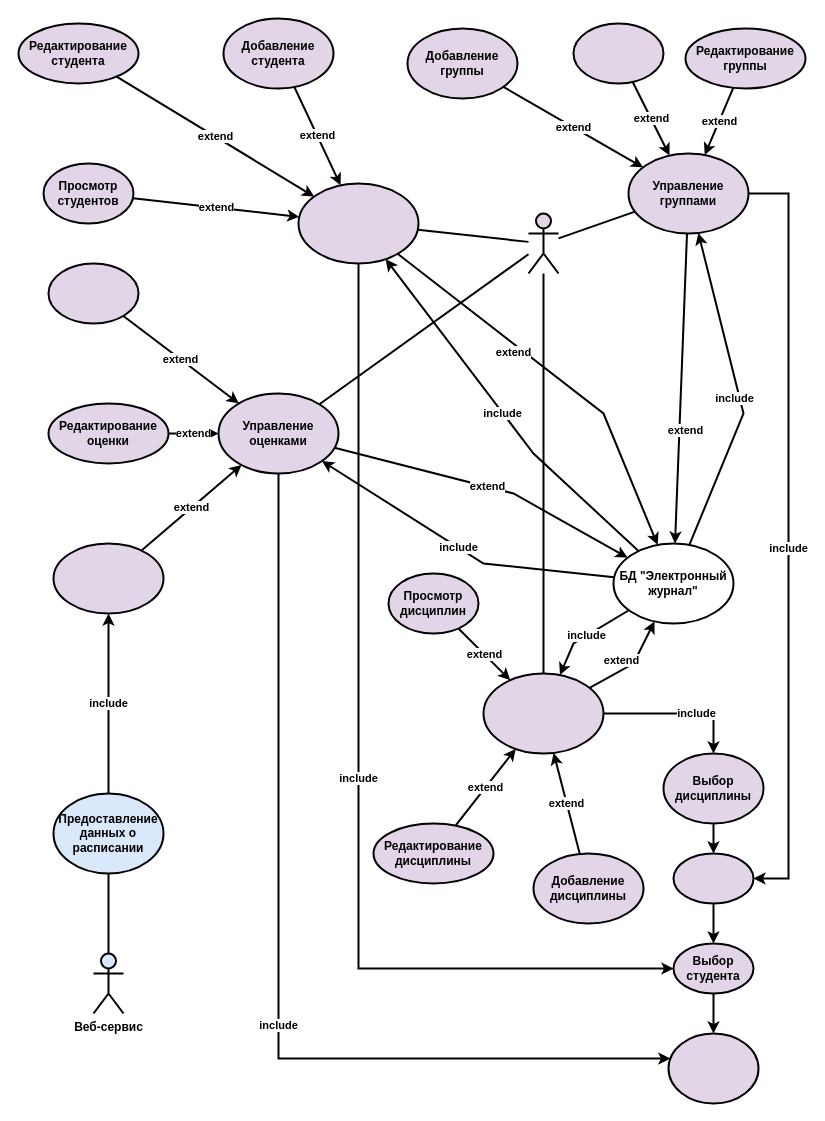
This 825x1121 diagram has some shape labels left out. Here are the shapes that lost their labels. From the top down, the box of each, then its label:
(572, 22, 664, 84): Просмотр групп
(297, 182, 419, 264): Управление студентами
(527, 212, 559, 274): Пользователь (преподаватель)
(47, 262, 139, 324): Просмотр оценок
(52, 542, 164, 614): Добавление оценки
(482, 672, 604, 754): Управление дисциплинами
(672, 852, 754, 904): Выбор группы
(667, 1032, 759, 1104): Выставление оценки
